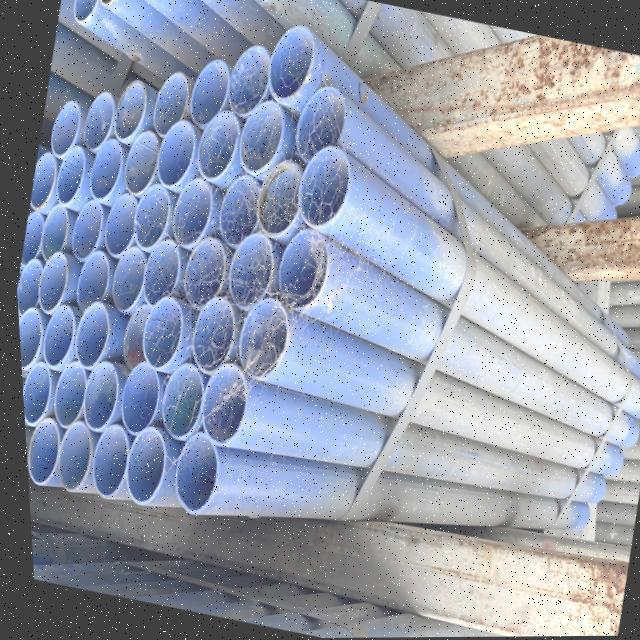pipe: (273, 228, 329, 314), (231, 296, 283, 377), (296, 147, 348, 228), (172, 234, 225, 312), (296, 87, 348, 166), (180, 61, 227, 146), (160, 178, 216, 249), (195, 364, 244, 444), (223, 233, 271, 312), (218, 45, 266, 124), (212, 174, 256, 260), (250, 162, 299, 239), (166, 431, 210, 515), (266, 29, 315, 104), (239, 101, 289, 174), (152, 362, 200, 438), (113, 363, 160, 440), (118, 420, 161, 502), (185, 297, 232, 372), (148, 68, 193, 145), (82, 416, 124, 498), (194, 107, 239, 182), (136, 295, 181, 368), (154, 117, 199, 189), (137, 238, 182, 308), (68, 245, 107, 323), (47, 351, 82, 435), (130, 182, 172, 252), (77, 360, 114, 438), (74, 88, 117, 155), (102, 244, 142, 316), (121, 124, 161, 195), (22, 151, 61, 222), (66, 198, 107, 262), (108, 78, 149, 142), (100, 184, 134, 261), (45, 423, 84, 487), (86, 136, 125, 200), (32, 251, 67, 321), (67, 304, 104, 370), (21, 416, 55, 486), (32, 202, 69, 261), (53, 143, 87, 205), (34, 307, 69, 367), (116, 300, 144, 373), (48, 97, 82, 157), (16, 210, 46, 268), (18, 363, 45, 427), (14, 260, 40, 316), (15, 305, 38, 368), (72, 0, 98, 24)
